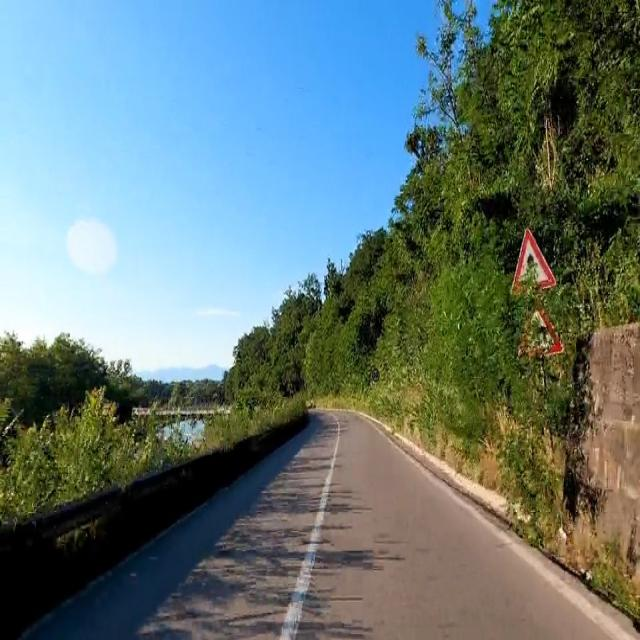lane: (280, 417, 339, 639)
road: (25, 412, 637, 638)
